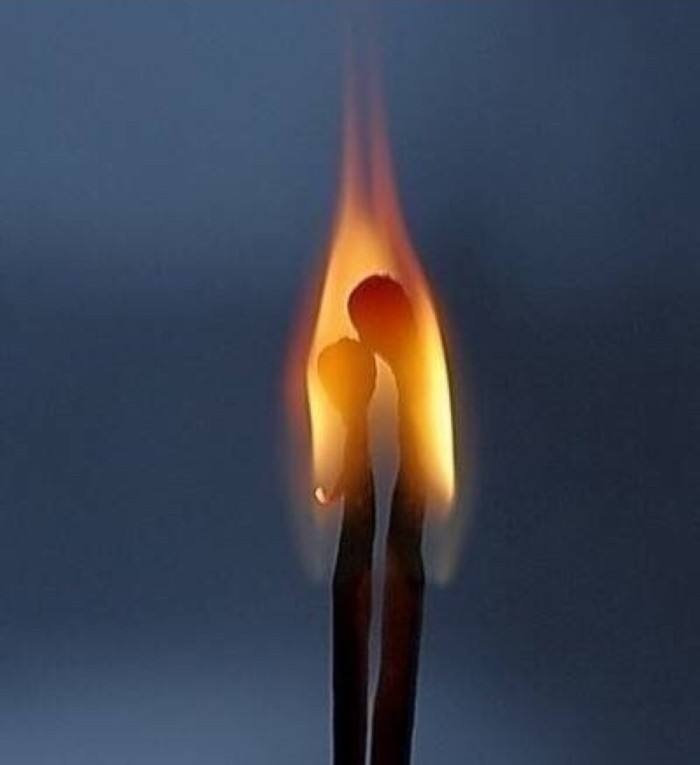fire: (273, 60, 479, 523)
